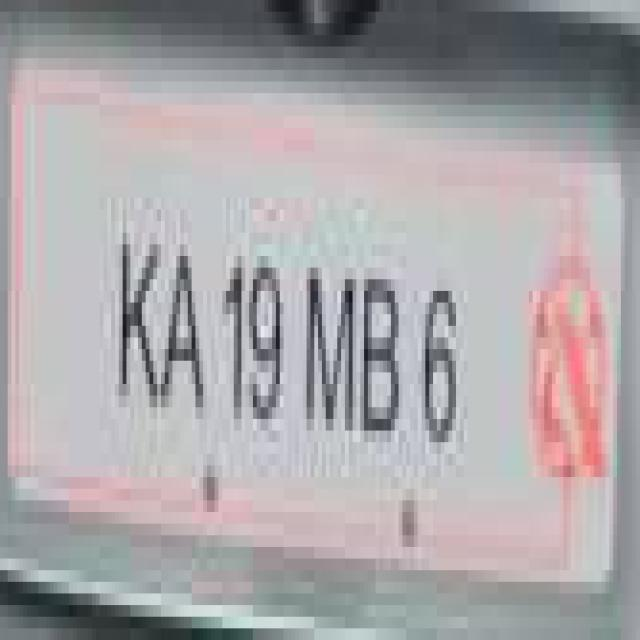license_plate: (0, 81, 621, 594)
